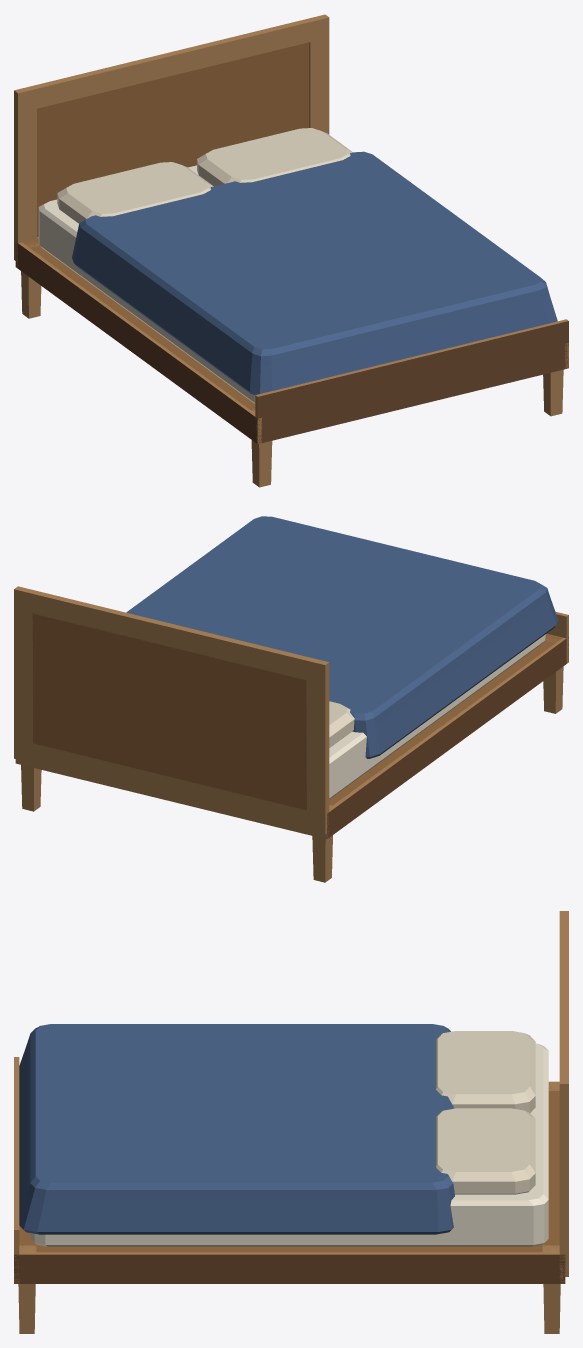
Rendered from FN_Bed_Double.glb.
3 renders of one model, top to bottom at view 1: azimuth 30°, elevation 25°; view 2: azimuth 150°, elevation 25°; view 3: azimuth 270°, elevation 25°, orthographic. The views are drawn at different scales.
Parts seen in each view (by area): view 1: FN_Bed_Double; view 2: FN_Bed_Double; view 3: FN_Bed_Double.
Boxes of the visible parts, box(x1,y1,x2,y2) form: FN_Bed_Double: box(14, 14, 568, 487); FN_Bed_Double: box(14, 516, 568, 882); FN_Bed_Double: box(14, 911, 568, 1333).
Size of the model in its own units: 1.5 by 1.02 by 2.03.
1 material, 1 textured.
